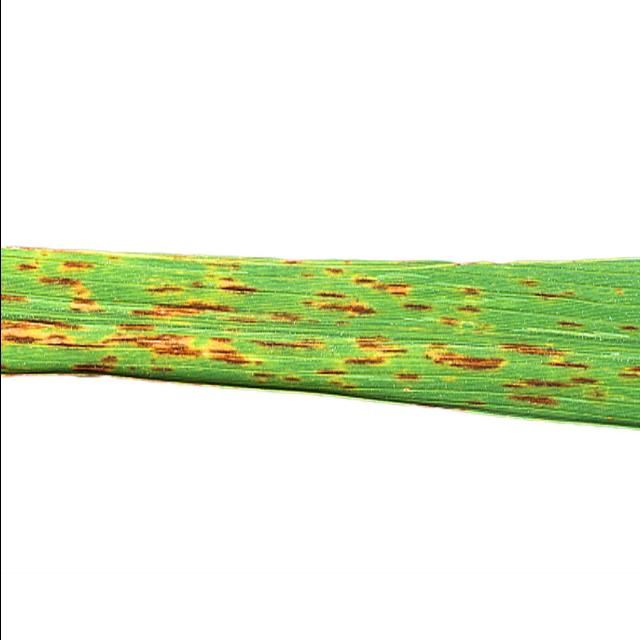Narrow brown: (0, 221, 640, 460)
